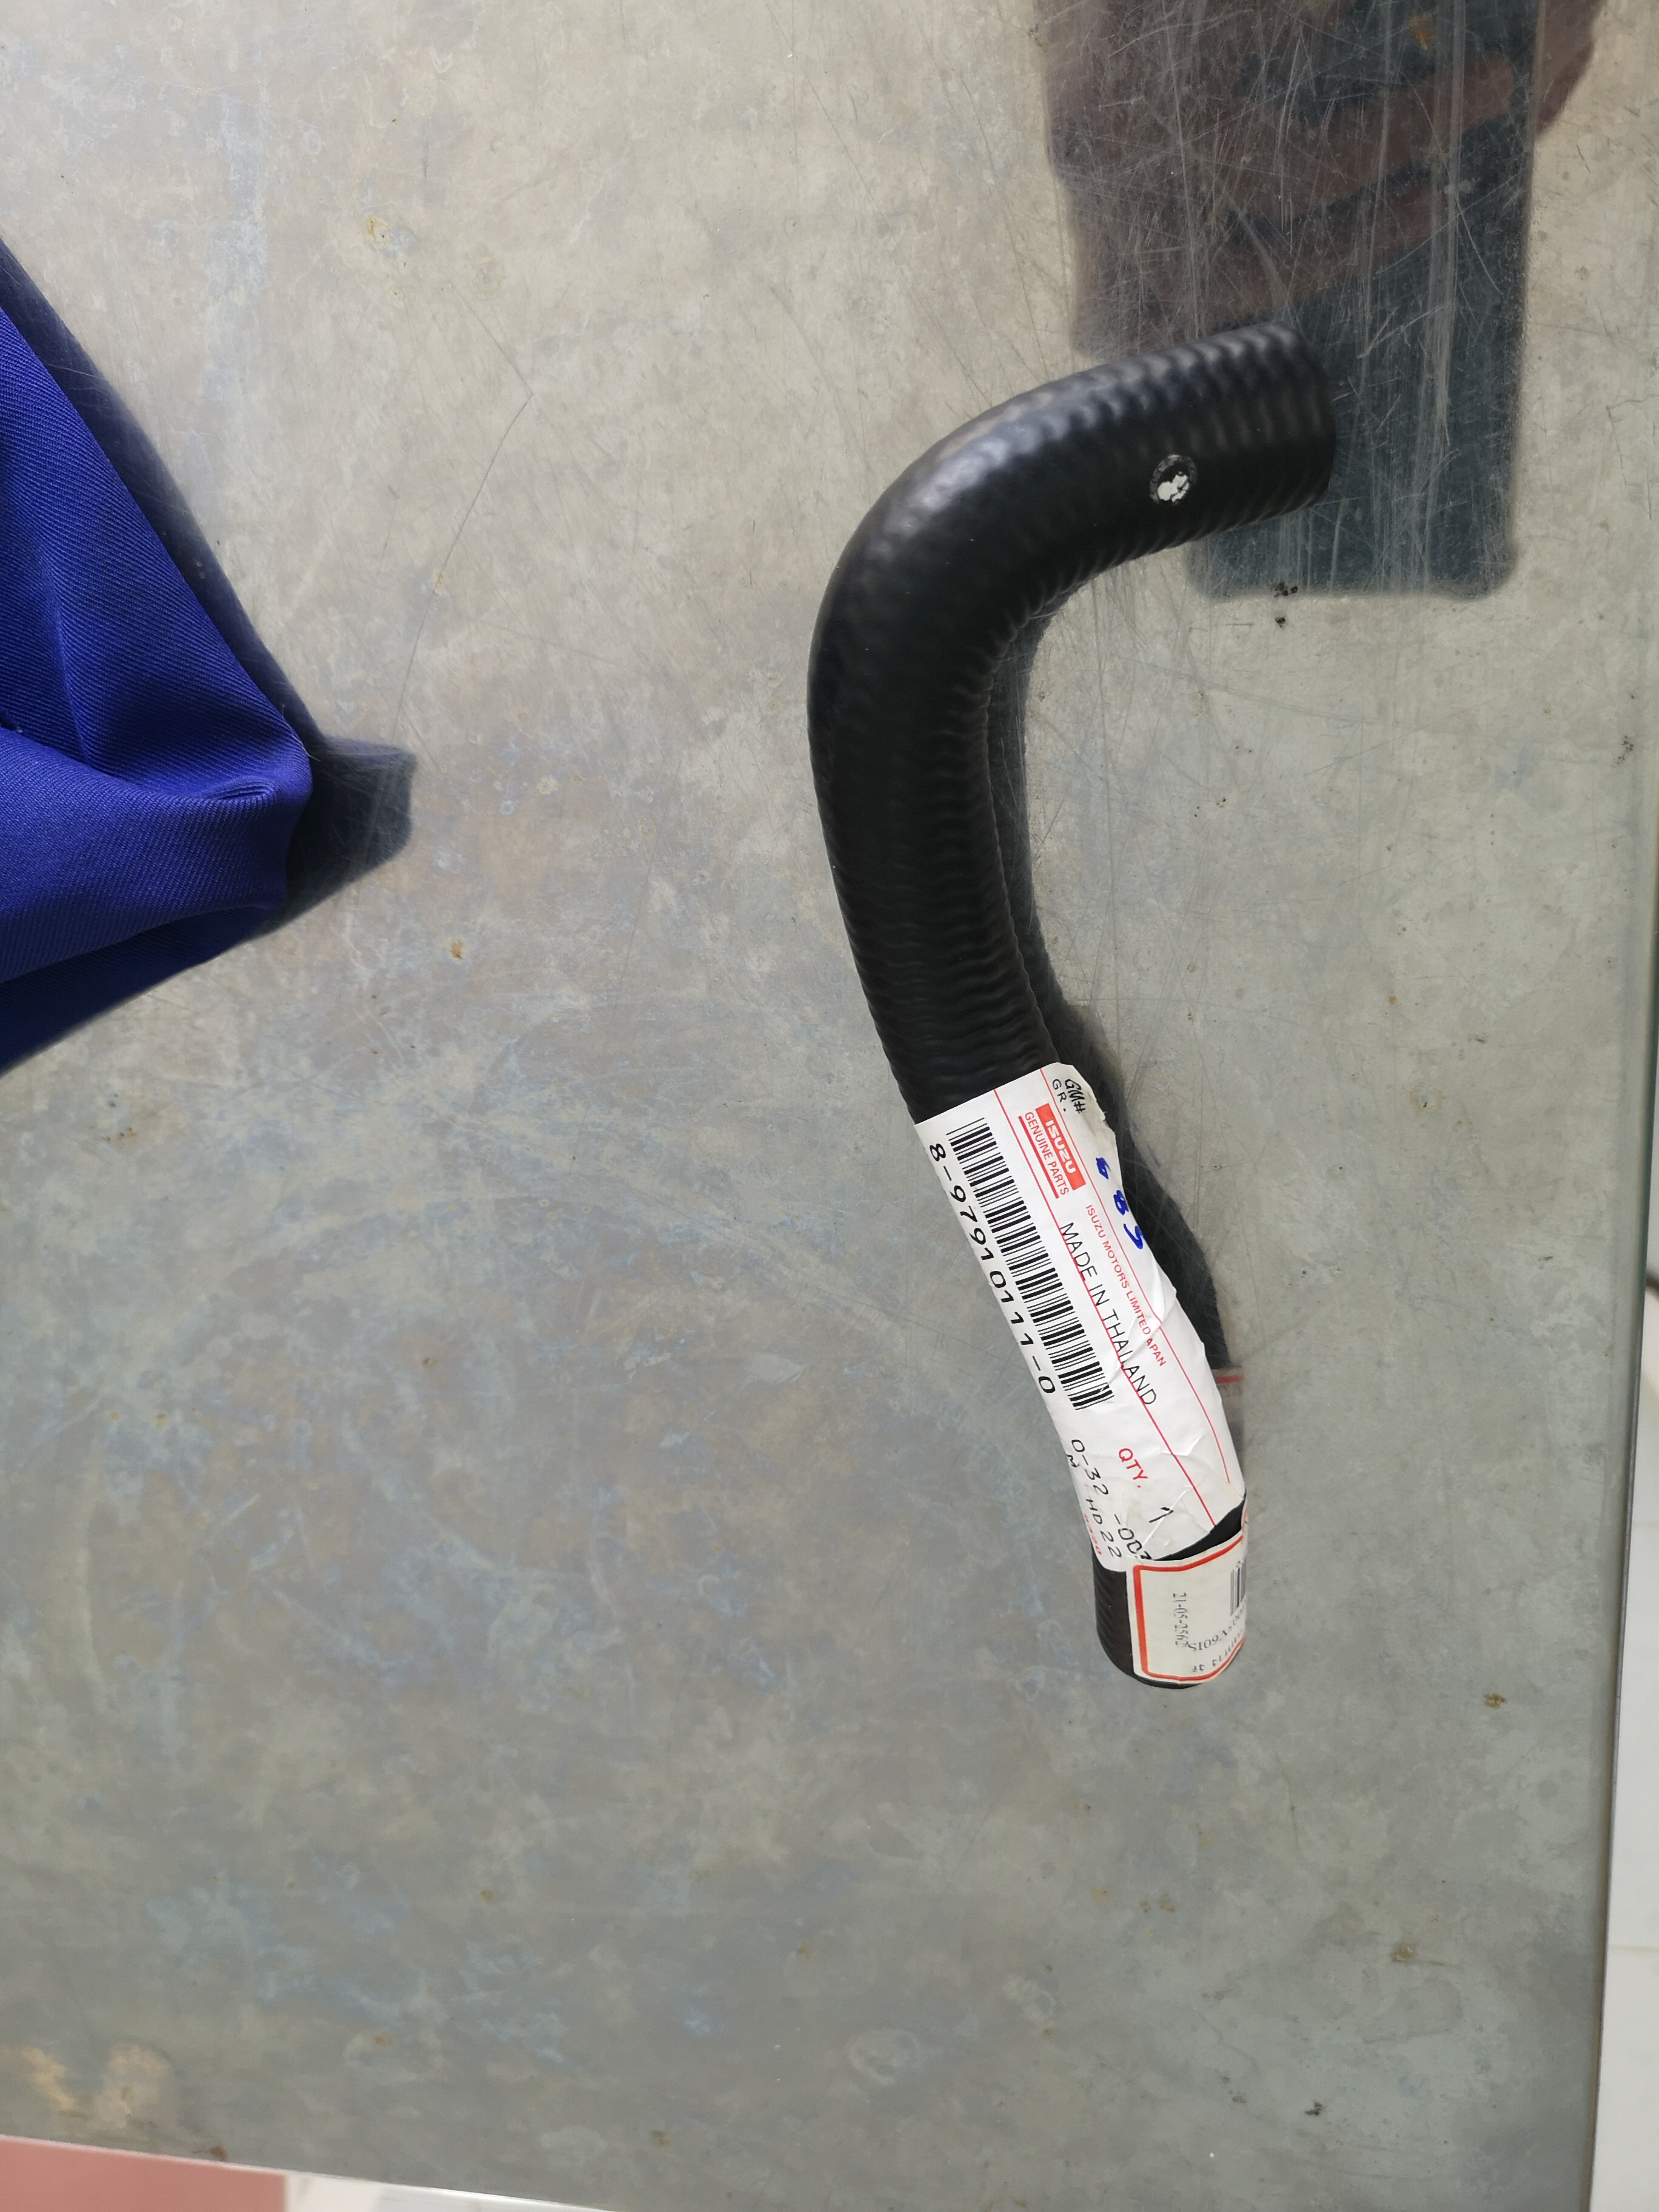ท่อยางน้ำมันเลี้ยงเทอร์โบ: (387, 305, 1659, 1578)
